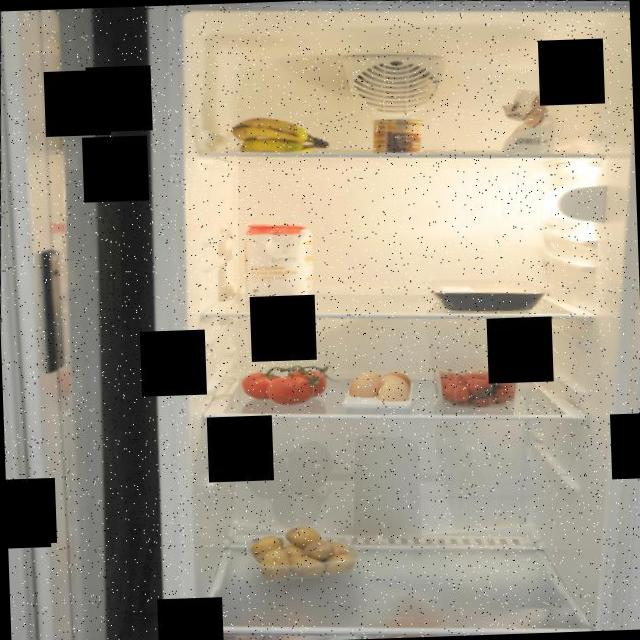Huevos: (346, 366, 415, 408)
Patata: (245, 521, 356, 581)
Plátano: (228, 109, 334, 157)
Tomate: (241, 360, 329, 408)
